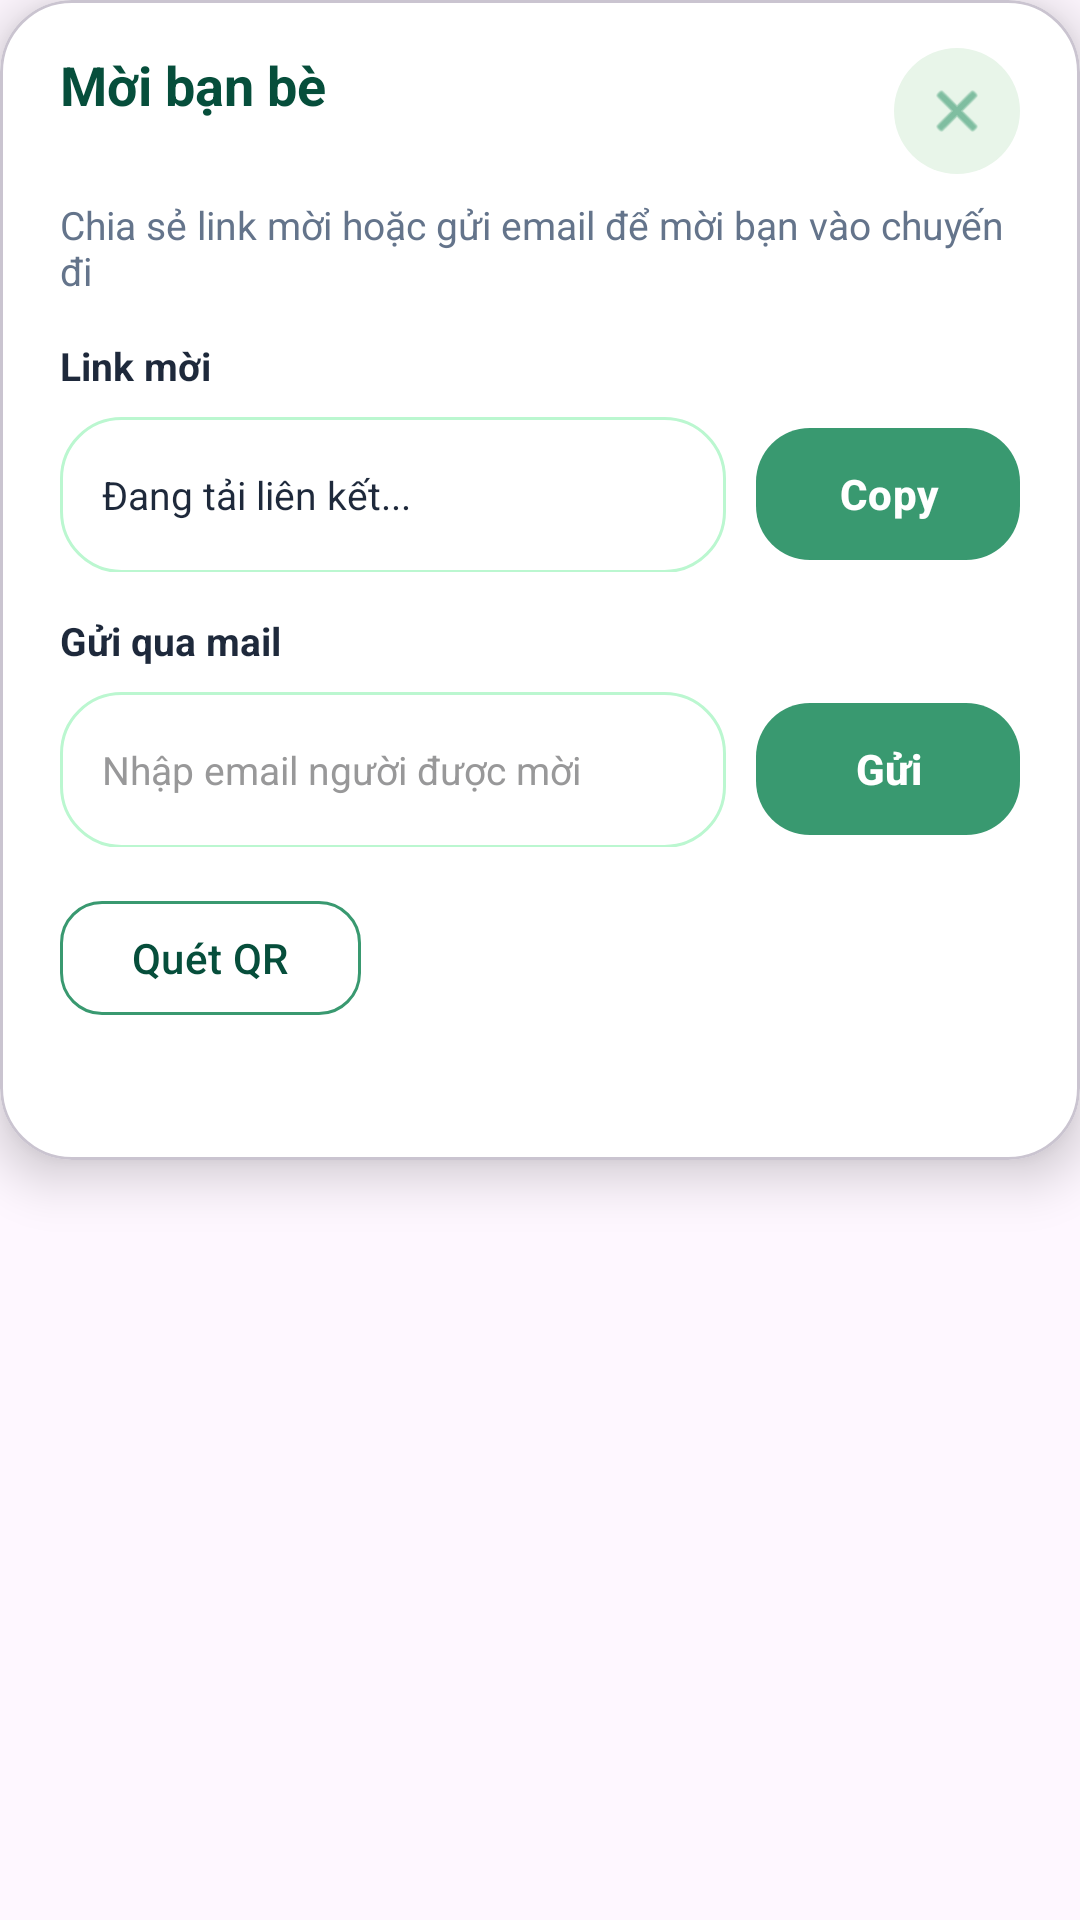

Icon click points for this 1080w x 1920h phone screenshot, format point (x, y):
close clear cancel: point (957, 111)
